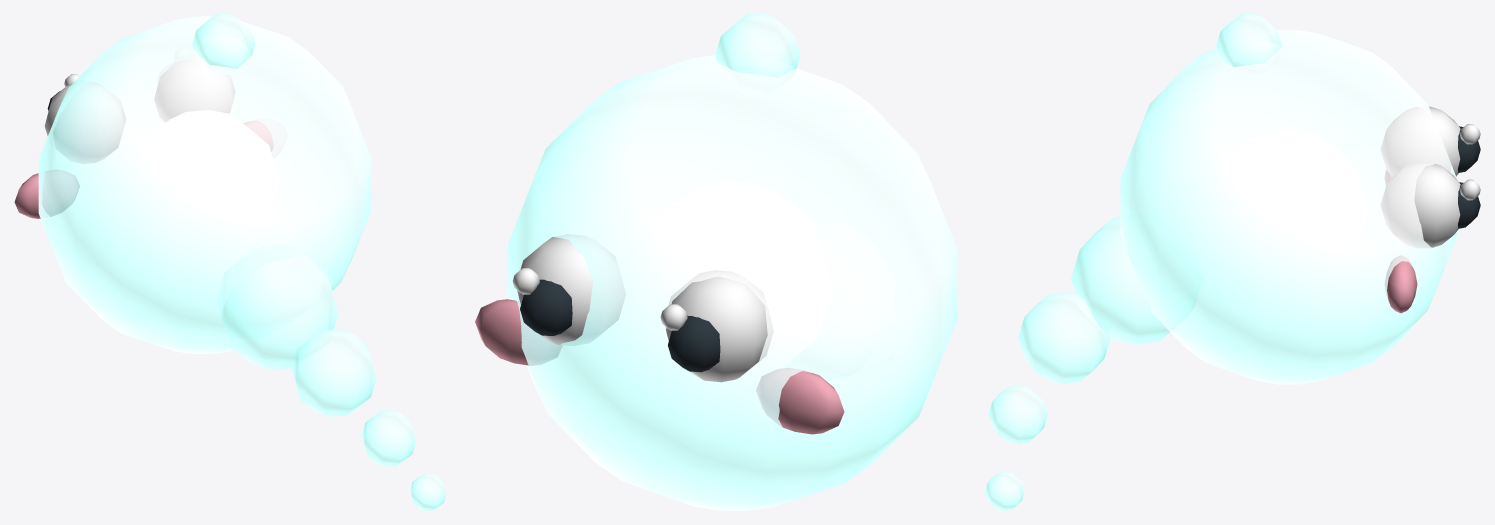
Rendered from xy_char_companion.glb.
3 views of the same model, side by side, from view 1: azimuth 30°, elevation 25°; view 2: azimuth 150°, elevation 25°; view 3: azimuth 270°, elevation 25° (orthographic). The views are drawn at different scales.
Visible parts, largest first — view 1: xy_char_companion; view 2: xy_char_companion; view 3: xy_char_companion.
Boxes of the visible parts, box(x1,y1,x2,y2) form: xy_char_companion: box(14, 14, 446, 510); xy_char_companion: box(475, 14, 956, 510); xy_char_companion: box(985, 14, 1480, 510).
Bounding box in the file's own units: 0.5237 × 0.75 × 0.751.
